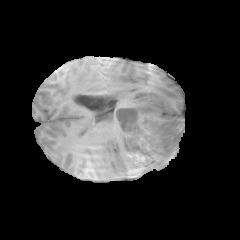glioma: (112, 92, 183, 179)
